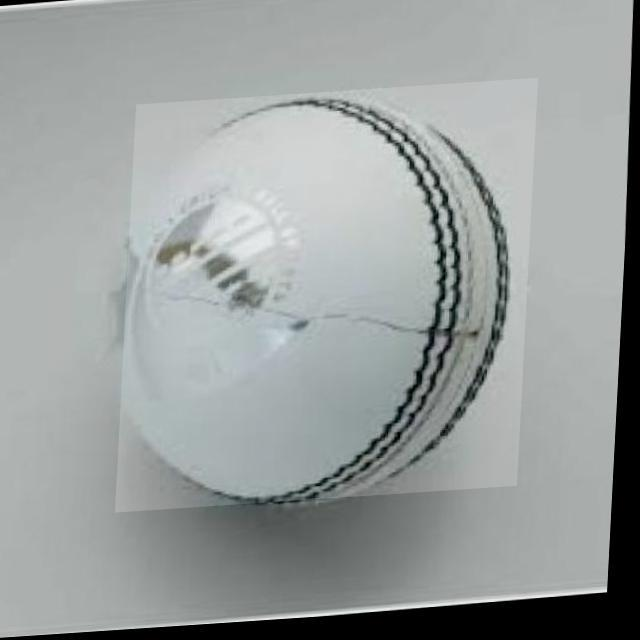-: (120, 86, 540, 514)
